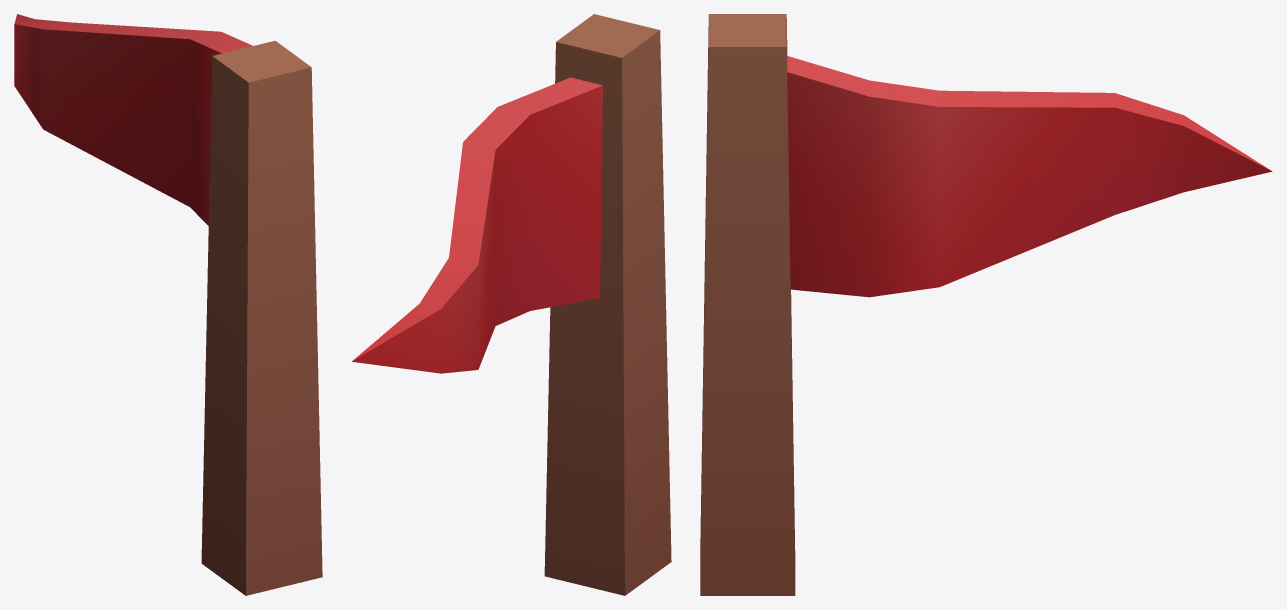
The model's file is flag.glb.
The picture shows the model from 3 angles, left to right: view 1: azimuth 30°, elevation 25°; view 2: azimuth 150°, elevation 25°; view 3: azimuth 270°, elevation 25°; orthographic projection. The views are drawn at different scales.
Visible parts, largest first — view 1: flag_red; view 2: flag_red; view 3: flag_red.
Boxes of the visible parts, x1,y1,x2,y2 form: flag_red: [14, 14, 322, 595]; flag_red: [352, 14, 671, 595]; flag_red: [700, 14, 1272, 595].
Bounding box in the file's own units: 0.055 × 0.2775 × 0.264.
1 material, 1 textured.
